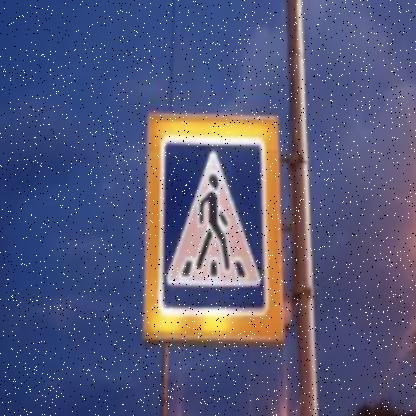Pedestrian Crossing: (167, 147, 264, 298)
